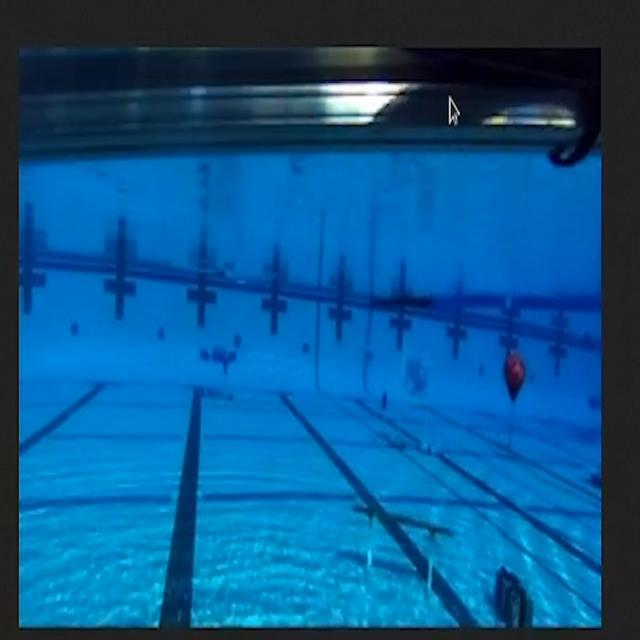Buoy: (492, 334, 540, 423)
Path: (348, 482, 464, 612)
